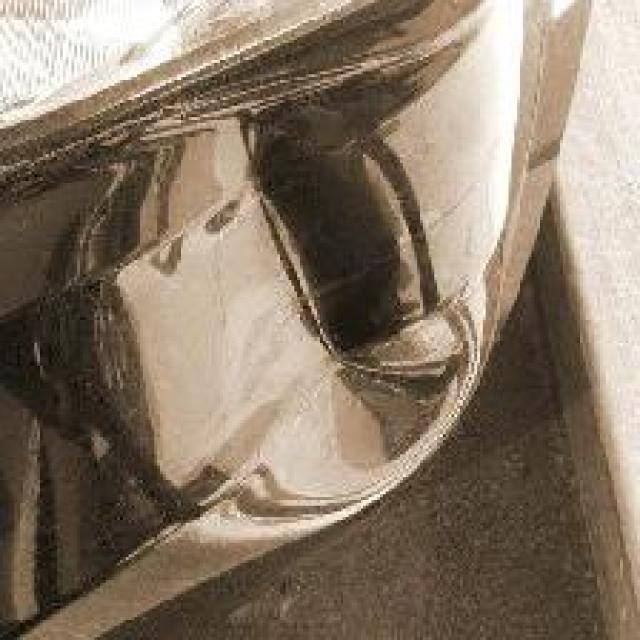bumper_dent_moderate: (120, 111, 471, 506)
